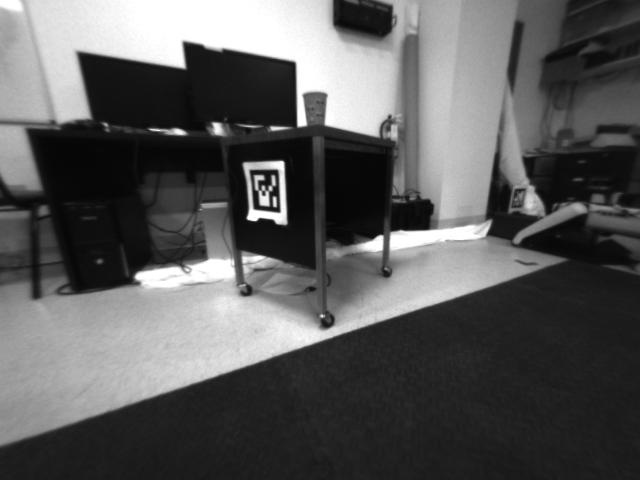coffee_cup: (301, 89, 328, 126)
